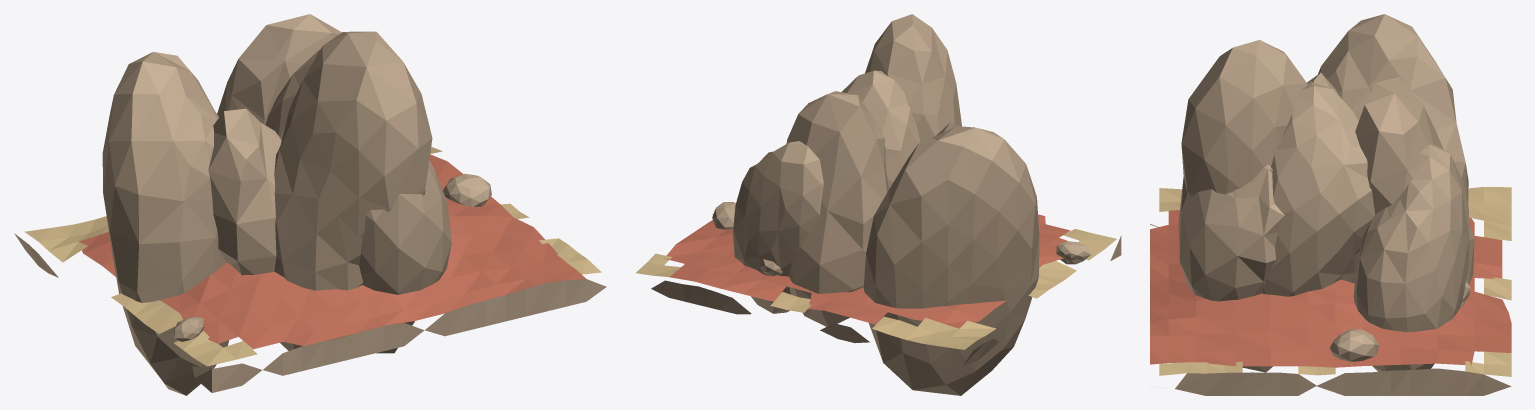
File: desert_rock_outcrop.glb
3 views of the same model, side by side, from view 1: azimuth 30°, elevation 25°; view 2: azimuth 150°, elevation 25°; view 3: azimuth 270°, elevation 25° (orthographic). The views are drawn at different scales.
Visible parts, largest first — view 1: Outcrop, Terrain_primary, Terrain_secondary, Terrain_sand, Rocks; view 2: Outcrop, Terrain_primary, Terrain_sand, Terrain_secondary, Rocks; view 3: Outcrop, Terrain_primary, Terrain_secondary, Terrain_sand, Rocks.
Part boxes in pixels (x1=…): Outcrop: x1=102, y1=14, x2=451, y2=395; Terrain_primary: x1=79, y1=154, x2=585, y2=349; Terrain_secondary: x1=14, y1=233, x2=606, y2=392; Terrain_sand: x1=24, y1=146, x2=601, y2=366; Rocks: x1=173, y1=173, x2=491, y2=341; Outcrop: x1=732, y1=14, x2=1039, y2=395; Terrain_primary: x1=664, y1=214, x2=1070, y2=328; Terrain_sand: x1=636, y1=214, x2=1116, y2=349; Terrain_secondary: x1=651, y1=235, x2=1121, y2=366; Rocks: x1=712, y1=202, x2=1091, y2=276; Outcrop: x1=1178, y1=14, x2=1474, y2=372; Terrain_primary: x1=1150, y1=210, x2=1511, y2=367; Terrain_secondary: x1=1150, y1=224, x2=1511, y2=395; Terrain_sand: x1=1159, y1=187, x2=1511, y2=376; Rocks: x1=1330, y1=281, x2=1470, y2=361.
Bounding box in the file's own units: 8.5 × 7.45 × 7.
